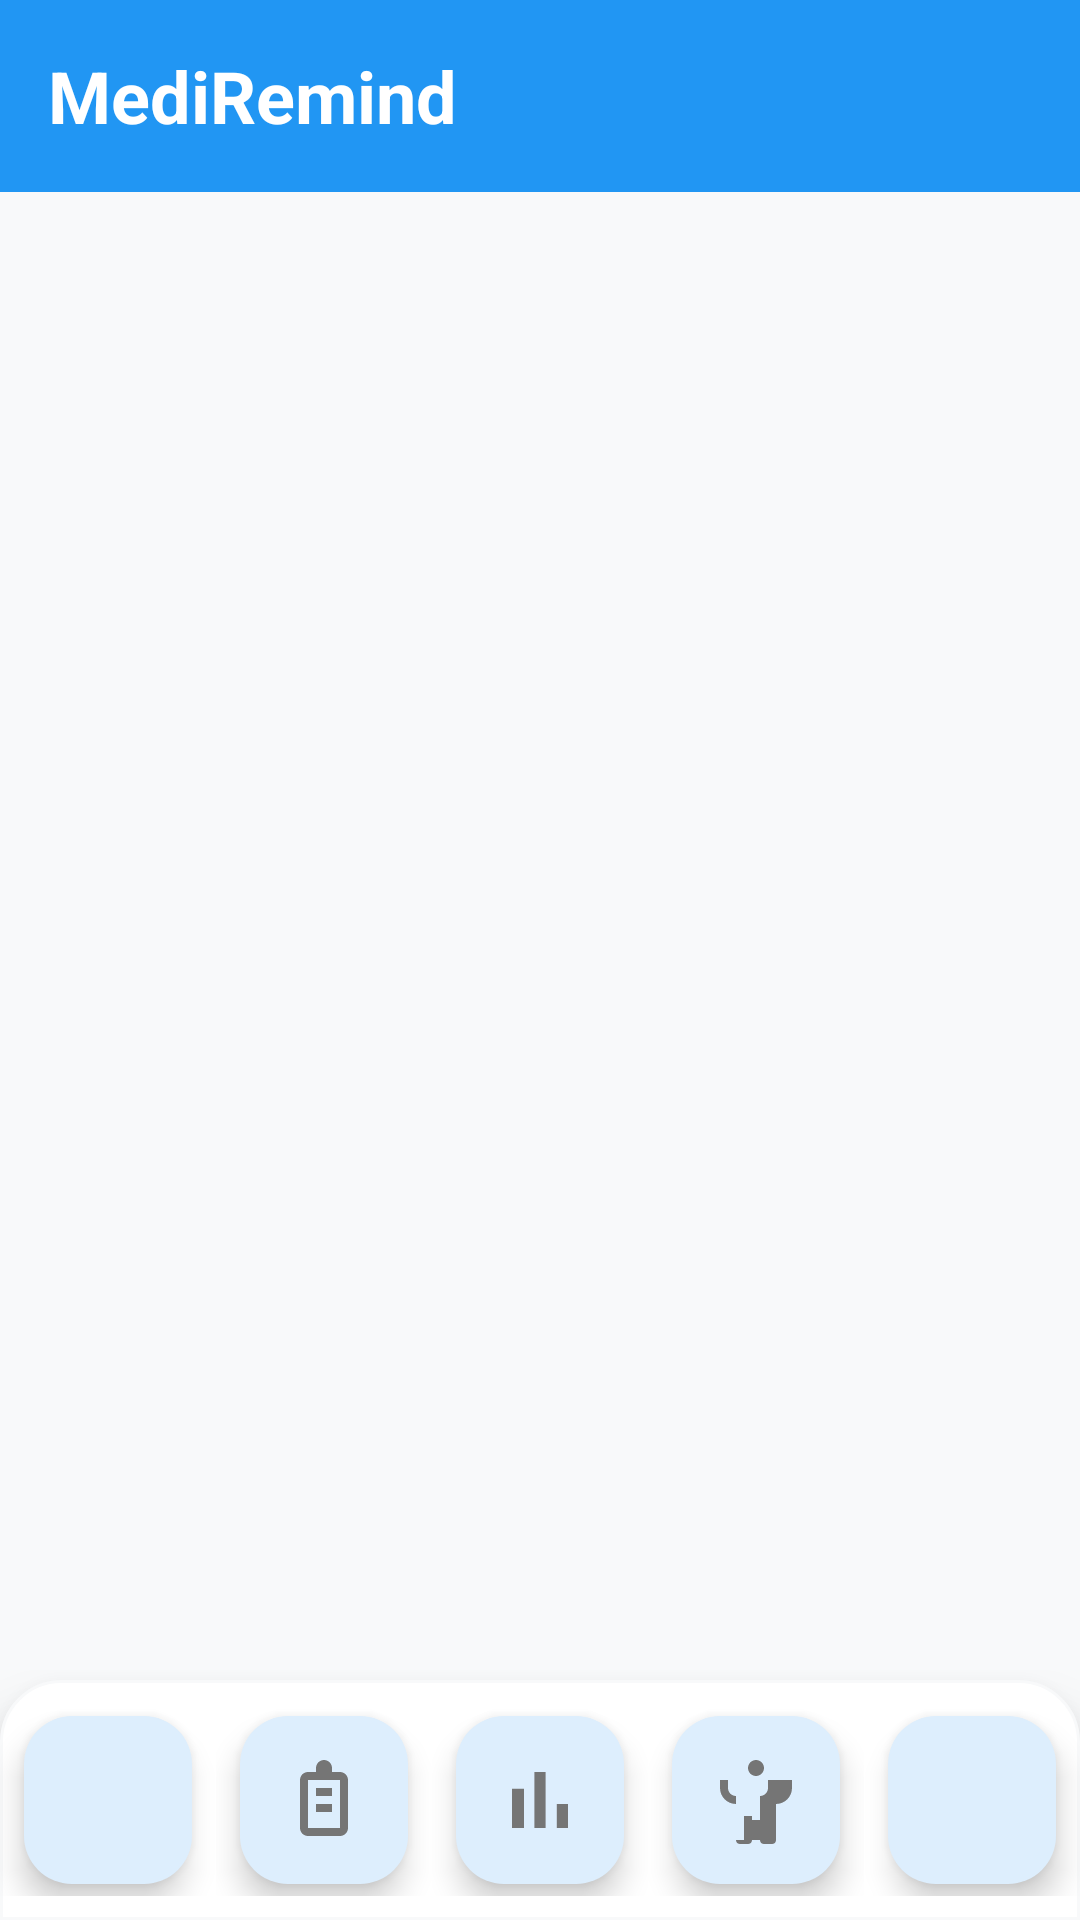

Named icons in this screenshot (1080px×1920px) and their bounding boxes, (x1, y1, x2, y2):
analytics: (456, 1716, 624, 1884)
